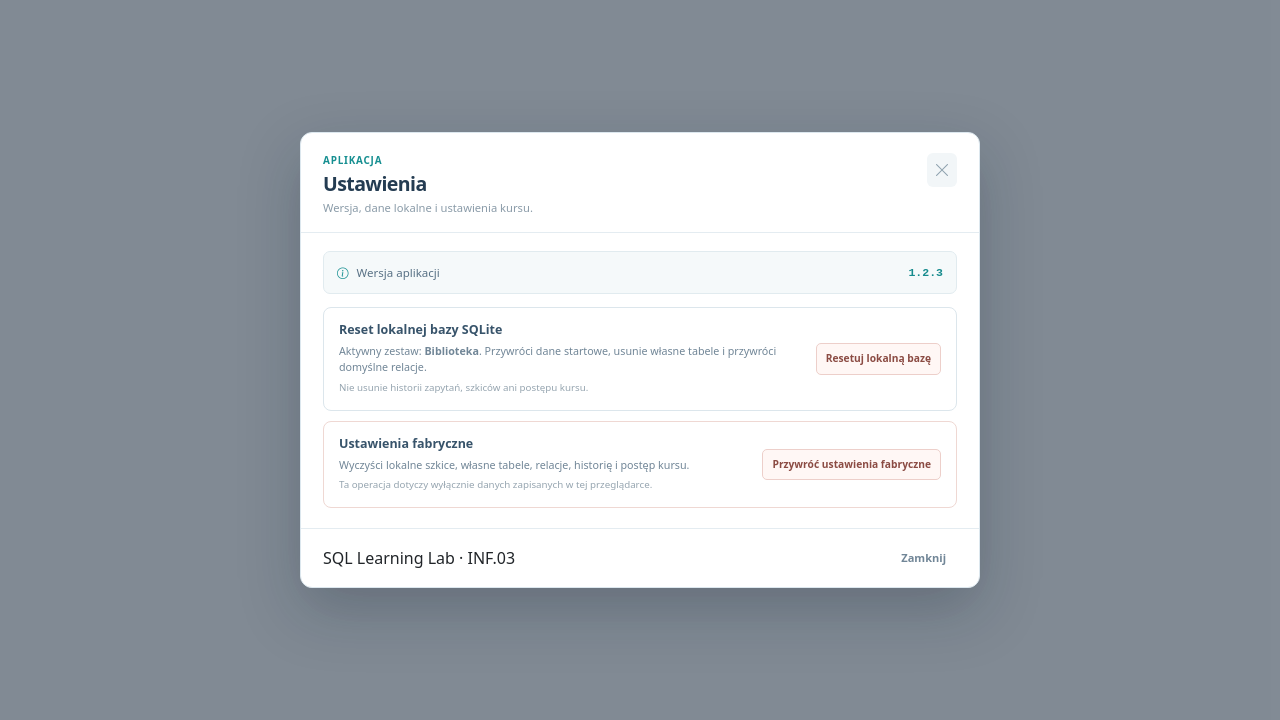
Scenario: requires confirmation before restoring factory settings
Click the button "Przywróć ustawienia fabryczne".
click(852, 464)  # box x1=762 y1=449 x2=941 y2=480
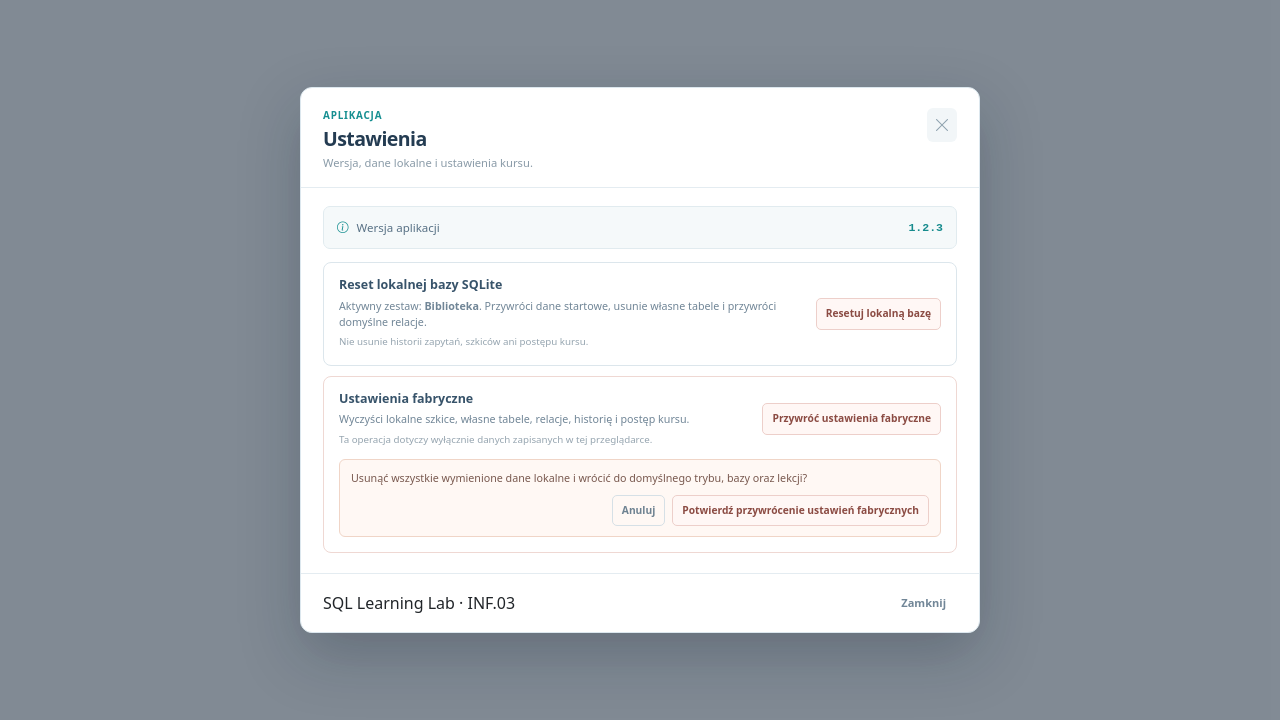
Expected: the text "Usunąć wszystkie wymienione dane lokalne" is shown, x1=351 y1=471 x2=807 y2=485
Click the button "Potwierdź przywrócenie ustawień fabrycznych".
click(801, 510)  # box x1=672 y1=495 x2=929 y2=526
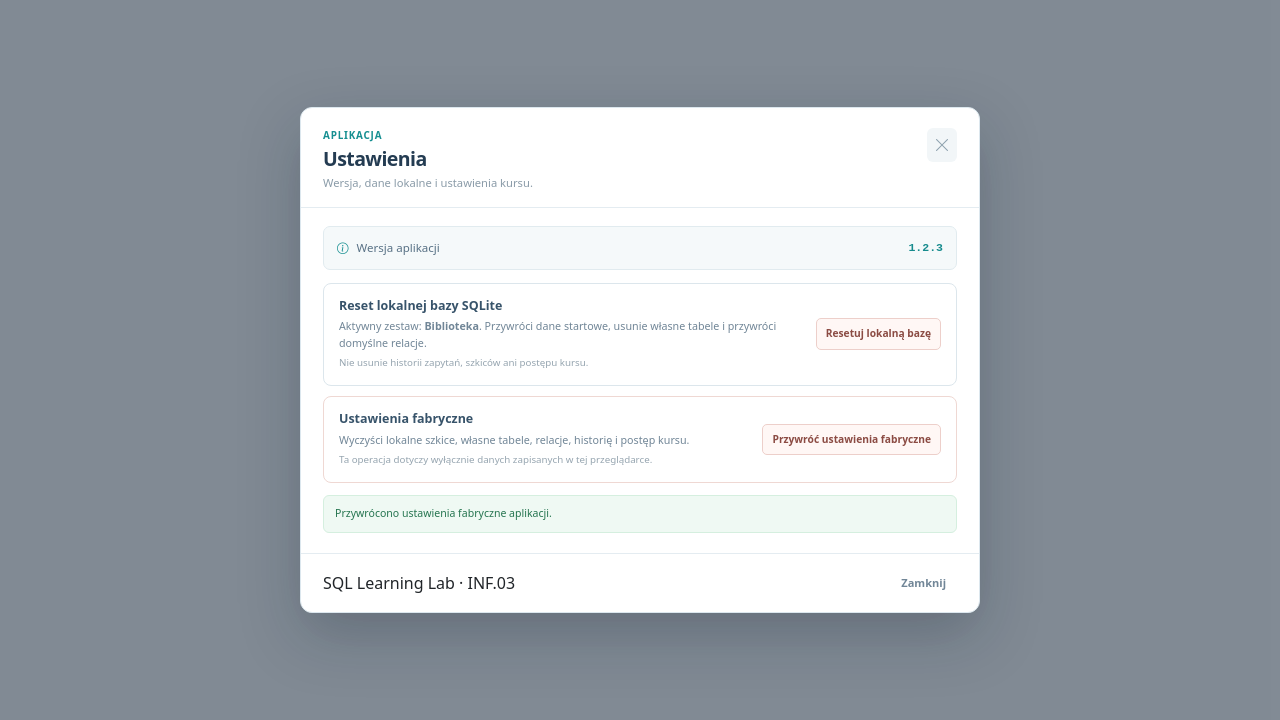
Expected: the message "Przywrócono ustawienia fabryczne aplikacji." is shown, x1=323 y1=495 x2=957 y2=533
